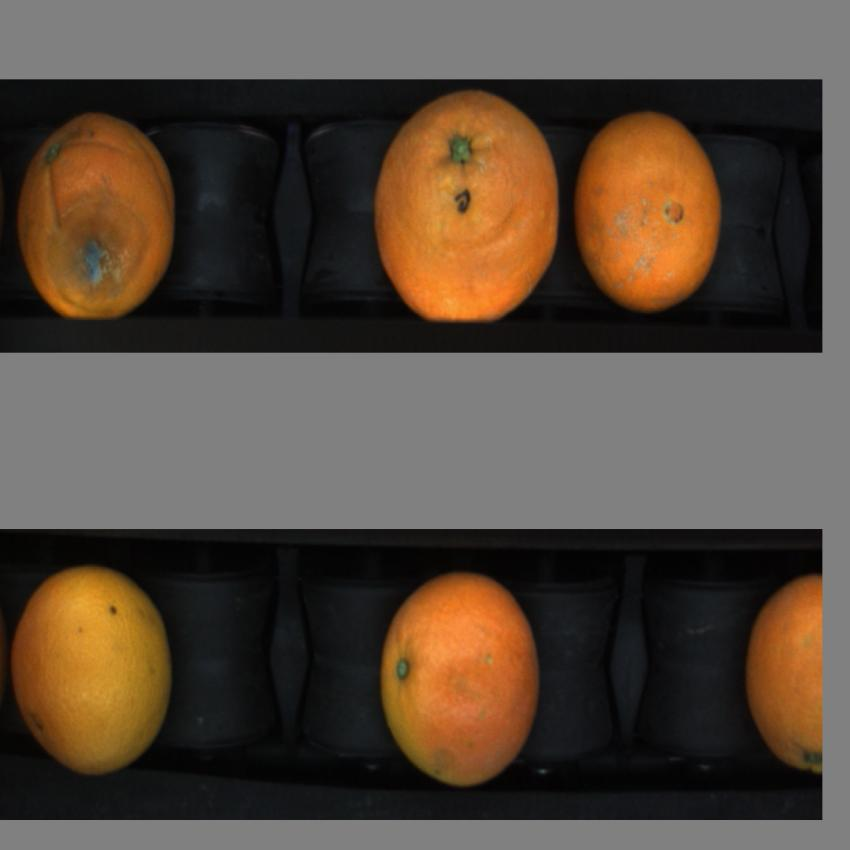Buen estado: (370, 83, 562, 333), (6, 553, 187, 785), (375, 566, 554, 789), (569, 106, 735, 321), (742, 563, 824, 800)
Mal estado: (14, 95, 187, 327)
